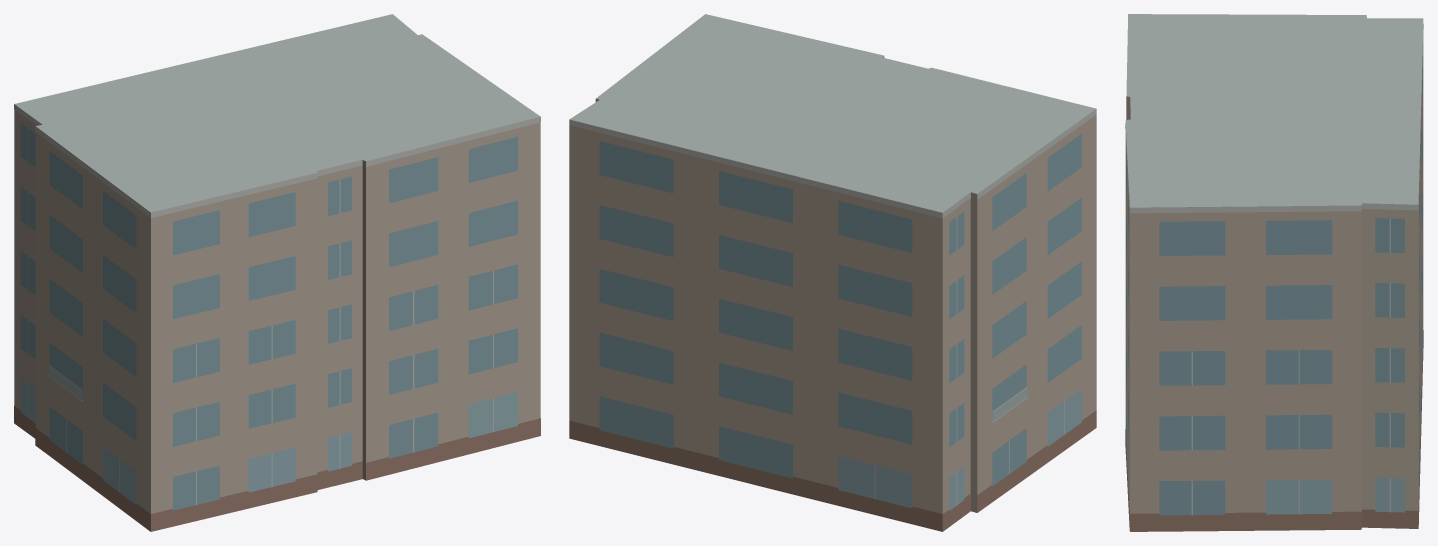
File: survey-upis-32932298.glb
3 views of the same model, side by side, from view 1: azimuth 30°, elevation 25°; view 2: azimuth 150°, elevation 25°; view 3: azimuth 270°, elevation 25° (orthographic).
Parts seen in each view (by area): view 1: survey-upis-32932298.tmp; view 2: survey-upis-32932298.tmp; view 3: survey-upis-32932298.tmp.
Boxes of the visible parts, x1,y1,x2,y2 form: survey-upis-32932298.tmp: [14, 14, 540, 531]; survey-upis-32932298.tmp: [569, 14, 1096, 531]; survey-upis-32932298.tmp: [1125, 14, 1423, 531].
Bounding box in the file's own units: 17.81 × 13.9 × 11.59.
